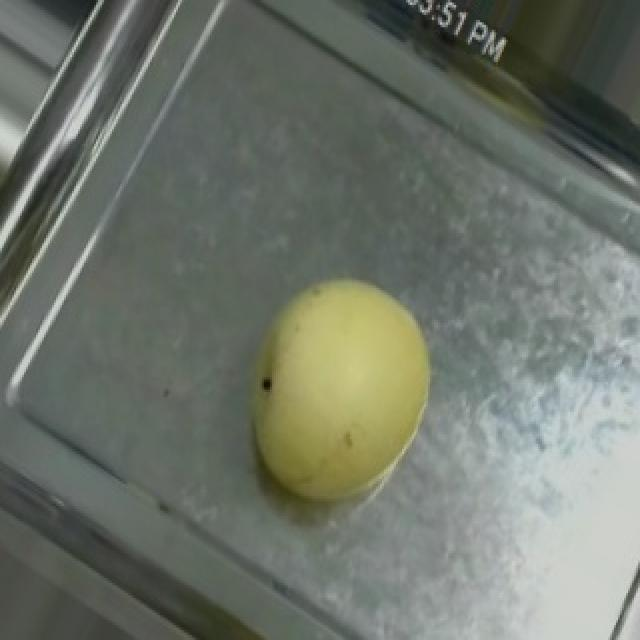Fruit: (196, 238, 470, 546)
